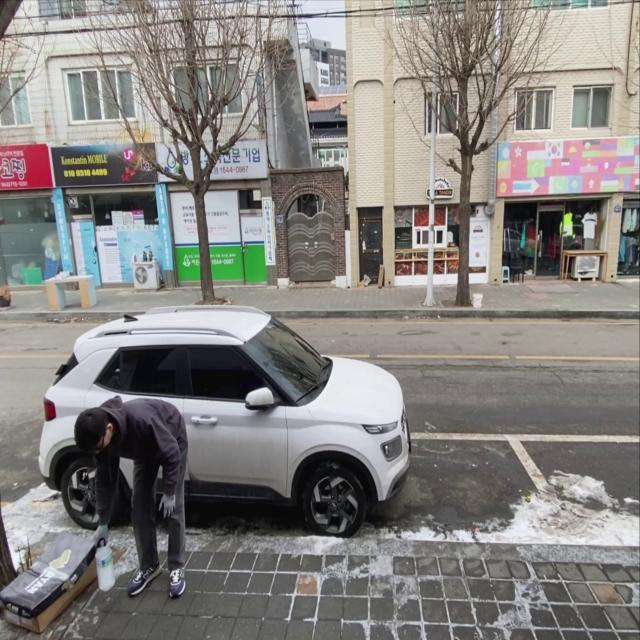gloved_hand: (156, 490, 180, 521), (94, 523, 108, 556)
